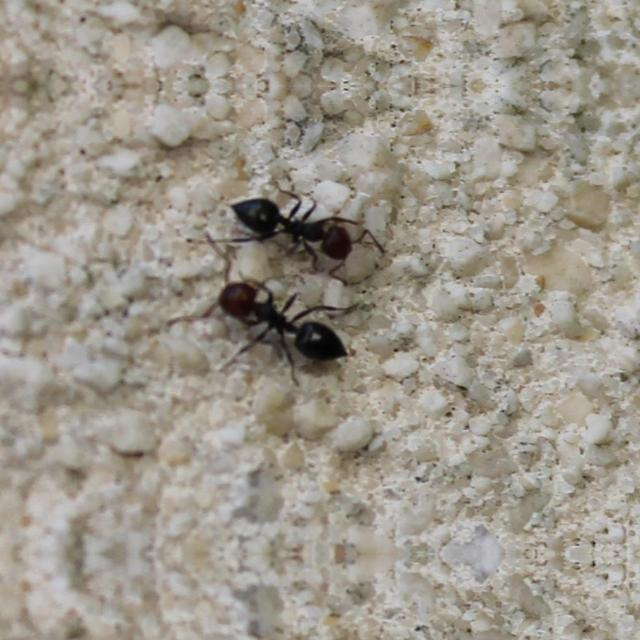Crematogaster: (215, 271, 338, 373), (235, 192, 362, 268)
